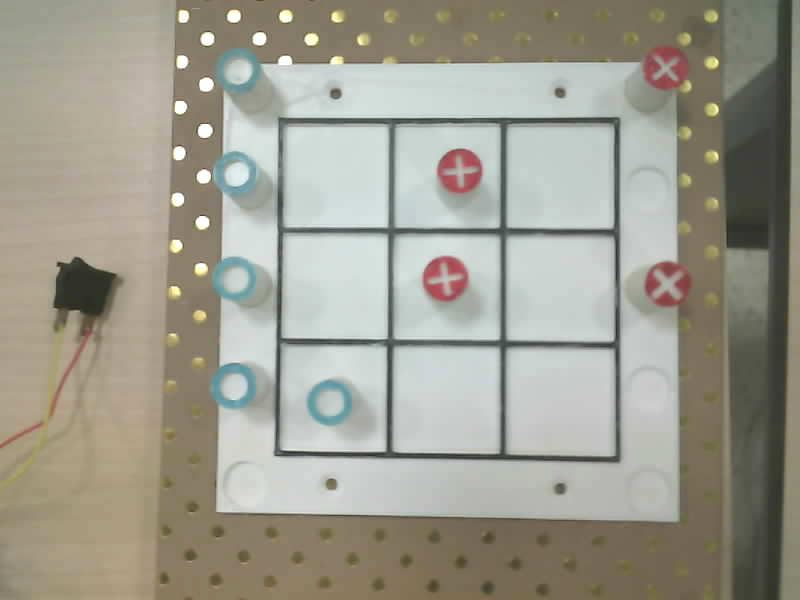blue circle: (307, 379, 352, 425), (209, 363, 255, 408), (215, 48, 261, 92), (212, 151, 257, 195), (212, 256, 256, 300)
board: (210, 47, 690, 520)
cells: (506, 347, 615, 456), (506, 234, 615, 341), (392, 346, 499, 453), (279, 344, 386, 451), (506, 123, 614, 228), (393, 234, 500, 339), (281, 233, 387, 338), (394, 123, 500, 227), (281, 123, 388, 225)
grid: (274, 117, 620, 461)
red cross: (644, 261, 691, 306), (437, 148, 482, 192), (423, 256, 468, 300), (642, 46, 688, 89)
